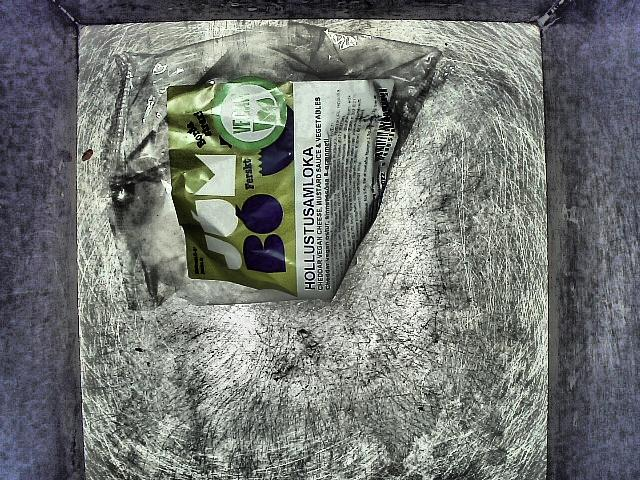Plastic: (107, 32, 433, 316)
